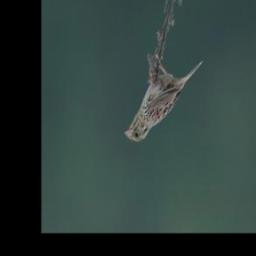Sparrow: (126, 53, 204, 144)
